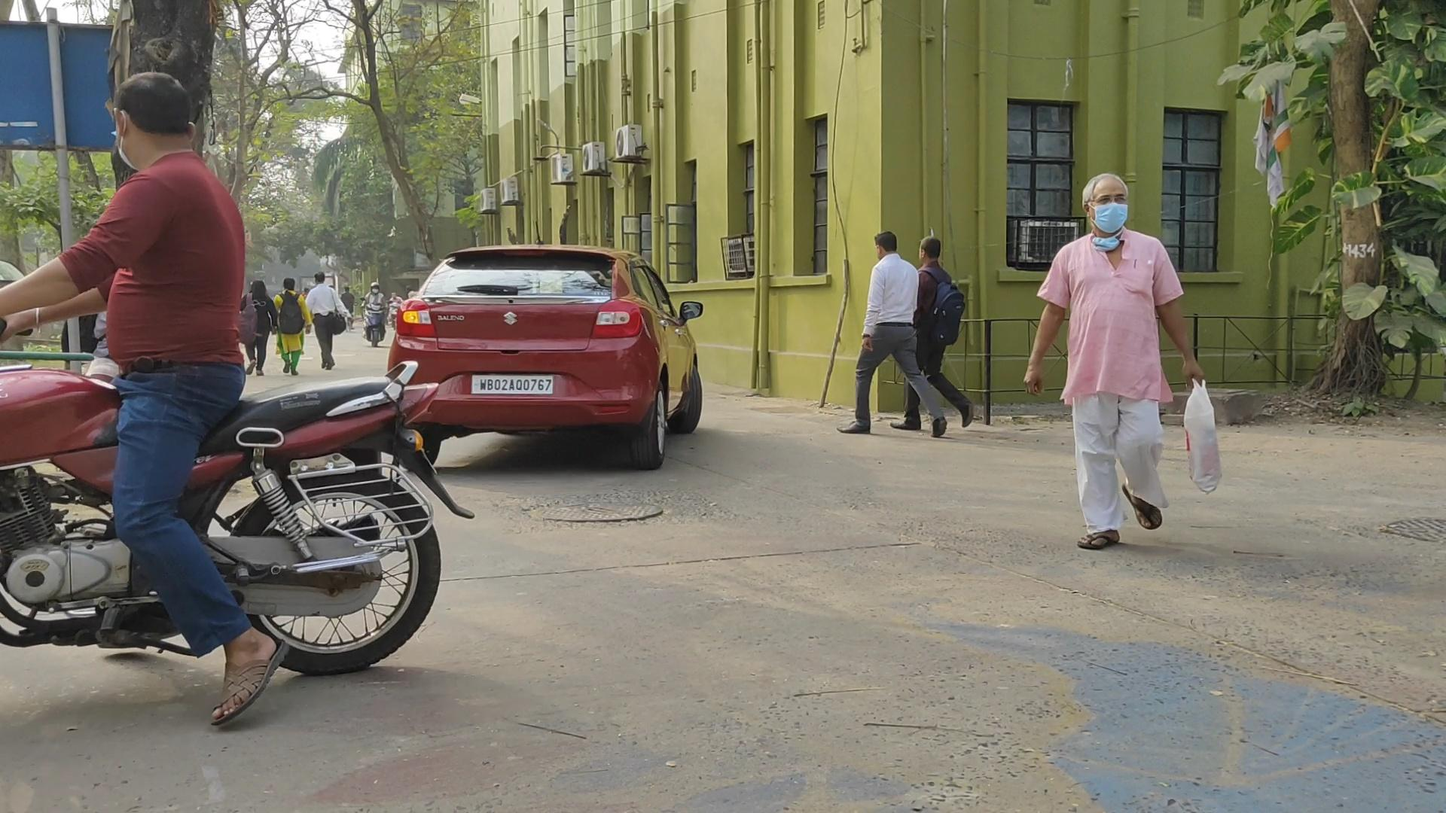bike: (5, 72, 476, 730), (361, 281, 388, 349)
car: (388, 243, 703, 471)
